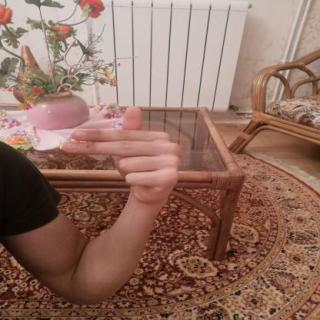GHAYN: (52, 101, 191, 210)
